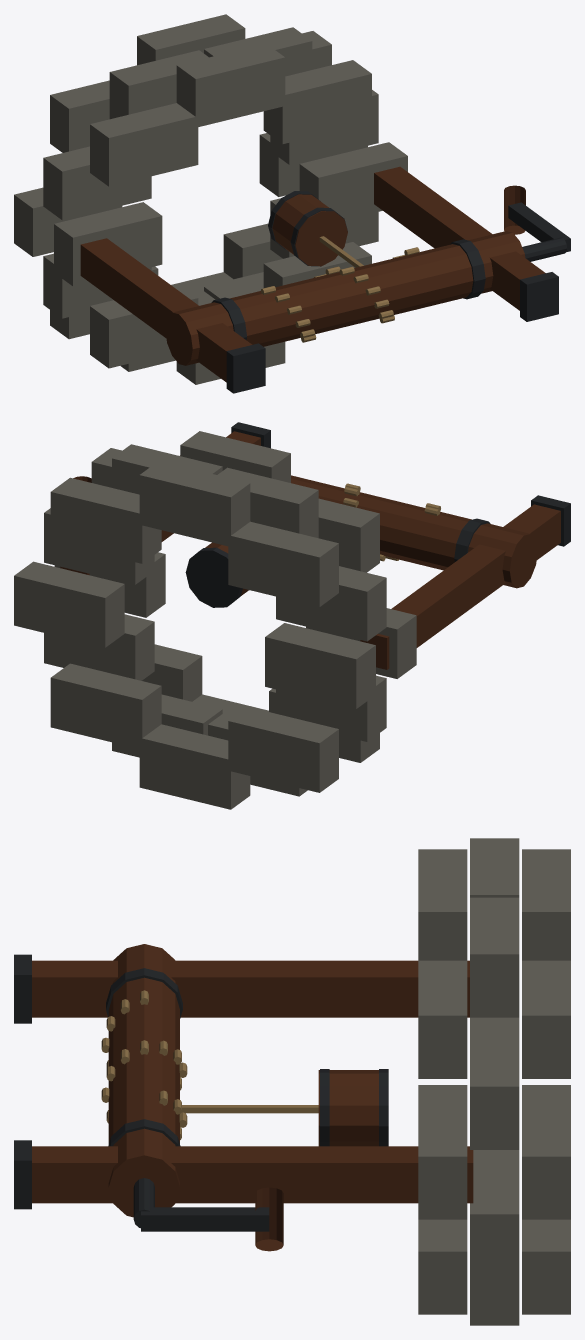
3 renders of one model, top to bottom at view 1: azimuth 30°, elevation 25°; view 2: azimuth 150°, elevation 25°; view 3: azimuth 270°, elevation 25°, orthographic. The views are drawn at different scales.
Visible parts, largest first — view 1: oak_windlass, stone_2_3, oak_upright_-1, stone_2_2, oak_upright_1, stone_2_1, stone_2_4, stone_2_0, stone_1_3, stone_2_5, stone_1_2, bucket (+23 smaller); view 2: oak_windlass, oak_upright_-1, stone_0_4, stone_0_0, stone_0_5, stone_0_3, stone_0_7, stone_0_2, stone_0_1, stone_0_6, stone_1_3, stone_1_7 (+18 smaller); view 3: oak_upright_-1, oak_upright_1, oak_windlass, stone_1_1, stone_1_0, stone_2_0, stone_2_1, stone_1_7, stone_0_0, stone_0_1, stone_2_2, stone_0_2 (+18 smaller).
Part boxes in pixels (left/top/right/bottom): oak_windlass: left=165, top=231, right=525, bottom=365; stone_2_3: left=90, top=103, right=198, bottom=186; oak_upright_-1: left=80, top=238, right=252, bottom=382; stone_2_2: left=176, top=43, right=285, bottom=127; oak_upright_1: left=374, top=166, right=545, bottom=310; stone_2_1: left=263, top=60, right=371, bottom=144; stone_2_4: left=54, top=202, right=162, bottom=286; stone_2_0: left=299, top=142, right=407, bottom=219; stone_1_3: left=43, top=146, right=151, bottom=220; stone_2_5: left=90, top=284, right=198, bottom=368; stone_1_2: left=109, top=50, right=208, bottom=119; bucket: left=272, top=194, right=347, bottom=266; oak_windlass: left=180, top=455, right=537, bottom=588; oak_upright_-1: left=360, top=504, right=560, bottom=669; stone_0_4: left=265, top=623, right=375, bottom=708; stone_0_0: left=14, top=561, right=124, bottom=647; stone_0_5: left=228, top=707, right=338, bottom=792; stone_0_3: left=228, top=521, right=338, bottom=606; stone_0_7: left=50, top=663, right=161, bottom=749; stone_0_2: left=139, top=461, right=250, bottom=546; stone_0_1: left=50, top=477, right=161, bottom=563; stone_0_6: left=139, top=724, right=250, bottom=809; stone_1_3: left=276, top=566, right=386, bottom=641; stone_1_7: left=44, top=614, right=154, bottom=680; oak_upright_-1: left=32, top=960, right=469, bottom=1017; oak_upright_1: left=32, top=1146, right=473, bottom=1203; oak_windlass: left=108, top=944, right=179, bottom=1217; stone_1_1: left=470, top=897, right=519, bottom=1017; stone_1_0: left=470, top=1030, right=519, bottom=1149; stone_2_0: left=418, top=1100, right=467, bottom=1219; stone_2_1: left=418, top=960, right=467, bottom=1078; stone_1_7: left=470, top=1157, right=519, bottom=1277; stone_0_0: left=522, top=1100, right=570, bottom=1219; stone_0_1: left=522, top=960, right=570, bottom=1078; stone_2_2: left=418, top=855, right=467, bottom=960; stone_0_2: left=522, top=855, right=570, bottom=960.
Size of the model in its own units: 3.3 by 2.45 by 3.12.
